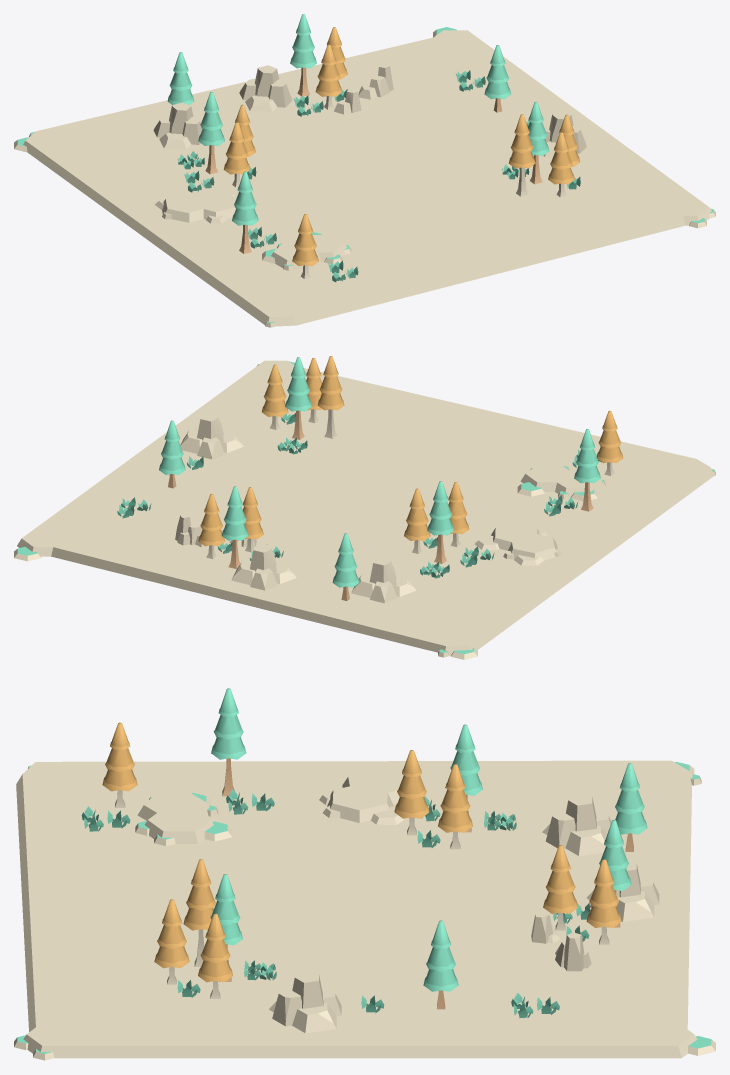
File: grass_trees.fbx
The picture shows the model from 3 angles, top to bottom: view 1: azimuth 30°, elevation 25°; view 2: azimuth 150°, elevation 25°; view 3: azimuth 270°, elevation 25°; orthographic projection. The views are drawn at different scales.
Parts seen in each view (by area): view 1: rockFlatGrass1, rockFlat, rockB, rockB2, rockFlatGrass, treeLarge2, treeLarge, treeLarge3, treeFallLarge1, tree1, treeFall5, treeLarge1 (+8 smaller); view 2: rockFlatGrass1, rockFlat, rockFlatGrass, rockB, rockB1, rockB2, treeFallLarge1, treeLarge2, treeLarge, treeLarge3, treeLarge1, tree (+9 smaller); view 3: rockFlatGrass1, rockFlatGrass, rockFlat, rockB1, rockB2, treeLarge3, tree1, rockB, treeFallLarge1, treeFall5, treeFall, treeFall1 (+10 smaller).
Boxes of the visible parts, x1,y1,x2,y2 form: rockFlatGrass1: (14,27,715,327); rockFlat: (154,190,236,223); rockB: (239,65,295,111); rockB2: (153,102,202,149); rockFlatGrass: (262,232,351,270); treeLarge2: (290,14,316,96); treeLarge: (198,92,224,174); treeLarge3: (232,171,258,253); treeFallLarge1: (508,114,535,196); tree1: (484,45,510,112); treeFall5: (315,44,342,109); treeLarge1: (528,102,549,184); rockFlatGrass1: (14,360,715,659); rockFlat: (474,523,561,565); rockFlatGrass: (517,465,605,501); rockB: (231,544,296,590); rockB1: (180,413,243,459); rockB2: (351,557,416,603); treeFallLarge1: (317,356,344,438); treeLarge2: (221,486,248,569); treeLarge: (427,481,453,563); treeLarge3: (574,429,600,511); treeLarge1: (285,357,311,439); tree: (332,533,359,600); rockFlatGrass1: (14,760,715,1060); rockFlatGrass: (135,791,232,845); rockFlat: (319,769,405,824); rockB1: (269,973,341,1033); rockB2: (542,796,611,855); treeLarge3: (211,688,246,796); tree1: (423,920,458,1009); rockB: (586,862,659,921); treeFallLarge1: (183,859,215,966); treeFall5: (543,845,578,930); treeFall: (438,764,472,849); treeFall1: (394,750,429,835).
Bounding box in the file's own units: 2.09 × 0.3752 × 2.09.
